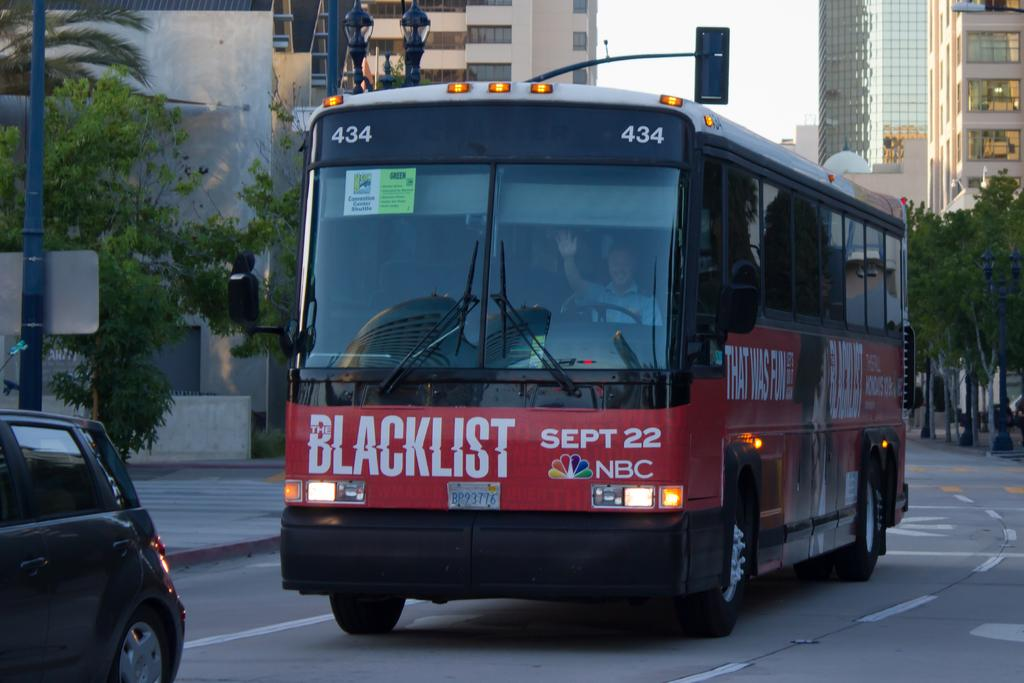vehicle: (280, 81, 916, 639), (0, 407, 187, 683)
